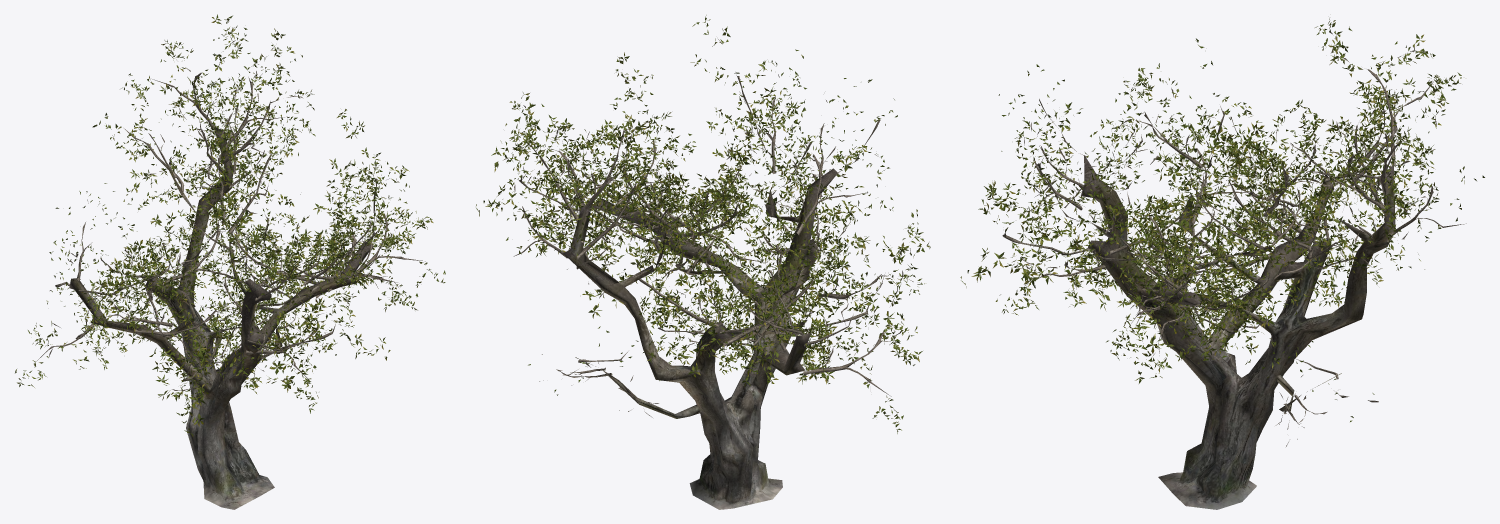
File: island_tree_01_lod2.glb
3 views of the same model, side by side, from view 1: azimuth 30°, elevation 25°; view 2: azimuth 150°, elevation 25°; view 3: azimuth 270°, elevation 25° (orthographic). The views are drawn at different scales.
Visible parts, largest first — view 1: island_tree_01_LOD0; view 2: island_tree_01_LOD0; view 3: island_tree_01_LOD0.
Boxes of the visible parts, x1,y1,x2,y2 form: island_tree_01_LOD0: (15, 14, 445, 509); island_tree_01_LOD0: (476, 15, 930, 509); island_tree_01_LOD0: (960, 18, 1484, 509).
Bounding box in the file's own units: 4.71 × 5.02 × 4.75.
3 materials, 3 textured.
